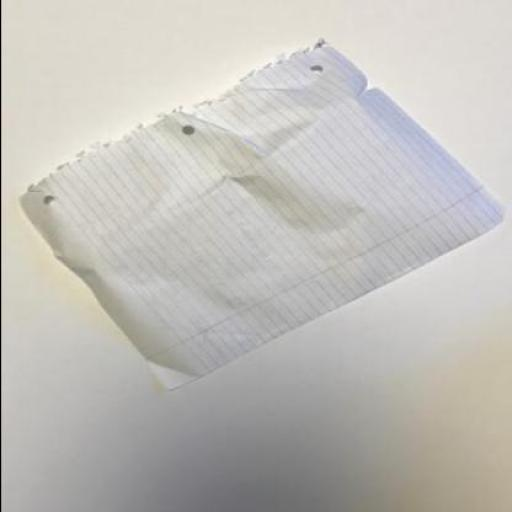paper: (17, 38, 507, 389)
